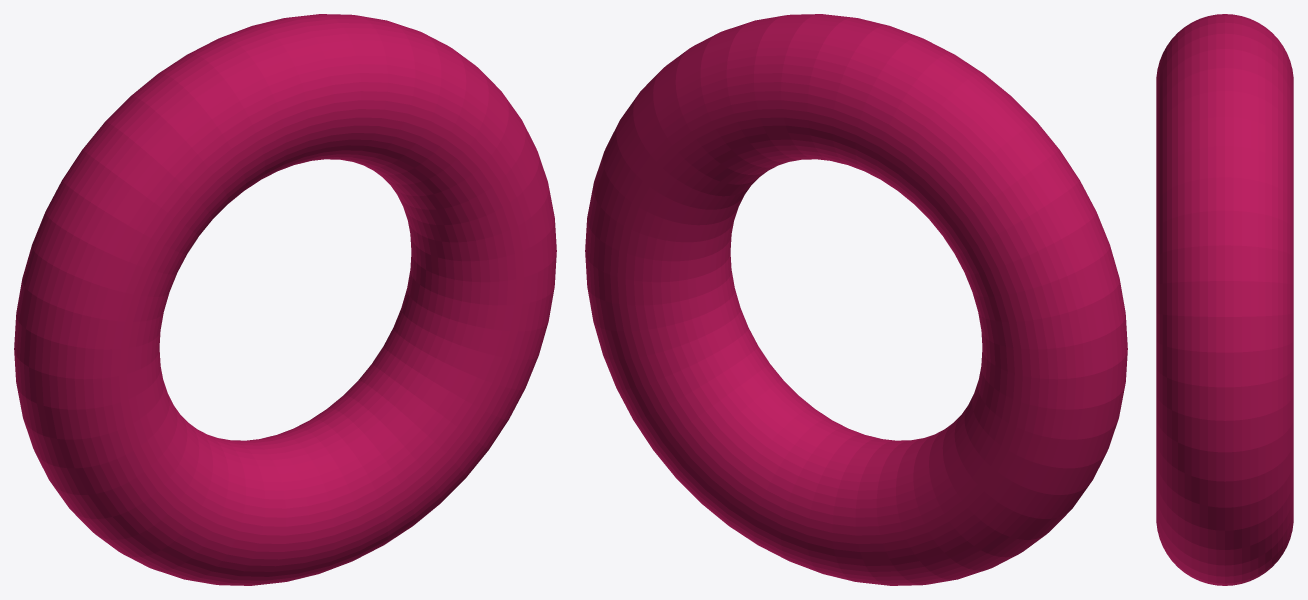
3 renders of one model, left to right at view 1: azimuth 30°, elevation 25°; view 2: azimuth 150°, elevation 25°; view 3: azimuth 270°, elevation 25°, orthographic. The views are drawn at different scales.
Visible parts, largest first — view 1: world; view 2: world; view 3: world.
Boxes of the visible parts, x1,y1,x2,y2 form: world: (14,14,556,585); world: (585,14,1127,585); world: (1156,14,1293,585).
Bounding box in the file's own units: 36 × 35.93 × 8.65.
